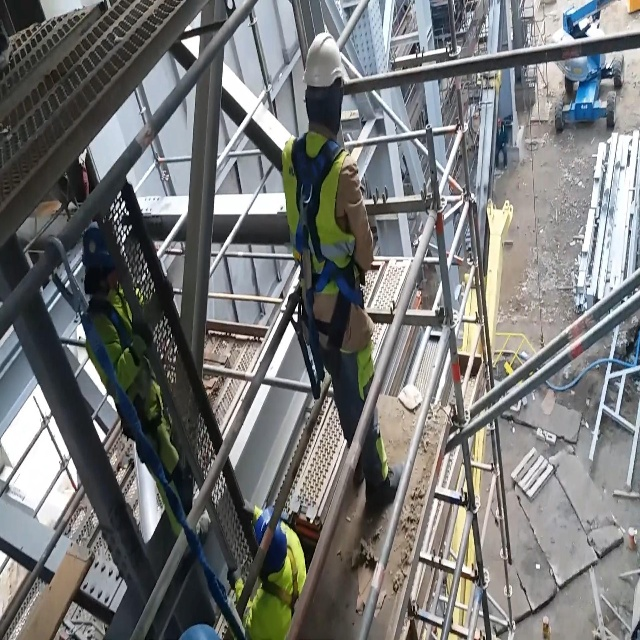Arnes_seguridad: (279, 121, 367, 393), (73, 281, 164, 436), (249, 547, 316, 631)
